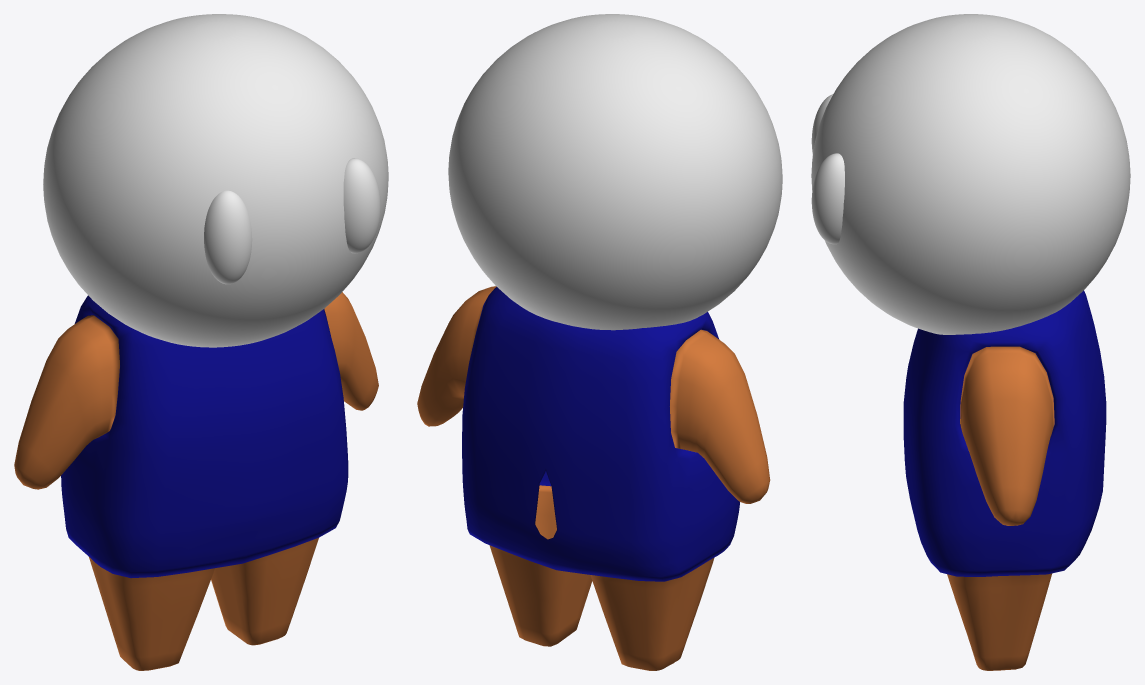
Rendered from Flafi.FBX.
3 views of the same model, side by side, from view 1: azimuth 30°, elevation 25°; view 2: azimuth 150°, elevation 25°; view 3: azimuth 270°, elevation 25° (orthographic). The views are drawn at different scales.
Parts seen in each view (by area): view 1: Box001, Sphere001, Sphere002, Sphere003; view 2: Box001, Sphere001; view 3: Sphere001, Box001, Sphere003.
Boxes of the visible parts, box(x1,y1,x2,y2) form: Box001: box(14, 292, 378, 670); Sphere001: box(43, 14, 388, 347); Sphere002: box(204, 190, 252, 284); Sphere003: box(343, 158, 380, 253); Box001: box(417, 286, 770, 670); Sphere001: box(448, 14, 782, 330); Sphere001: box(811, 14, 1130, 334); Box001: box(903, 290, 1106, 670); Sphere003: box(811, 153, 844, 244).
Bounding box in the file's own units: 32.19 × 54.15 × 25.85.
1 material, 1 textured.
